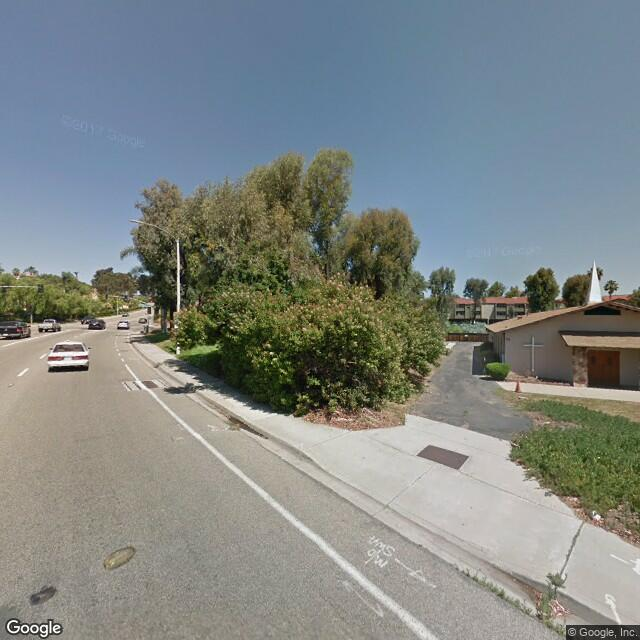litter: (592, 510, 602, 523), (545, 421, 551, 427)
